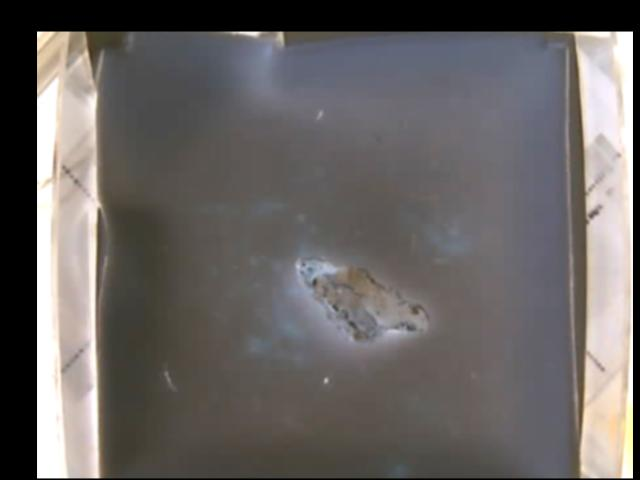Brisk: (297, 254, 430, 344)
